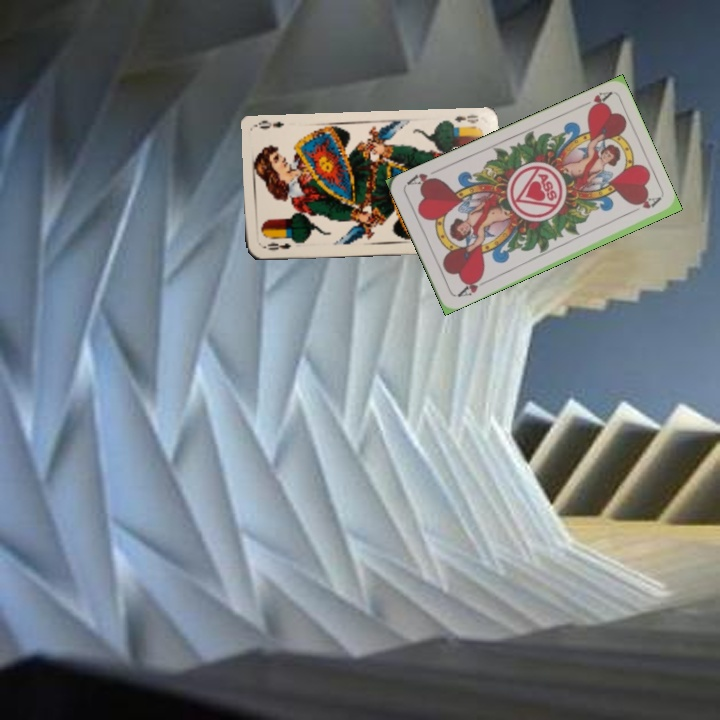EO: (259, 238, 293, 252), (451, 111, 481, 126)
HA: (453, 272, 491, 300), (575, 87, 614, 114)
